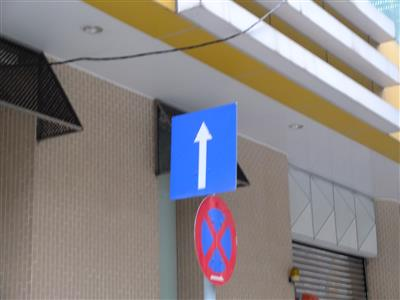noStopping: (188, 191, 245, 287)
oneway: (161, 99, 249, 202)
